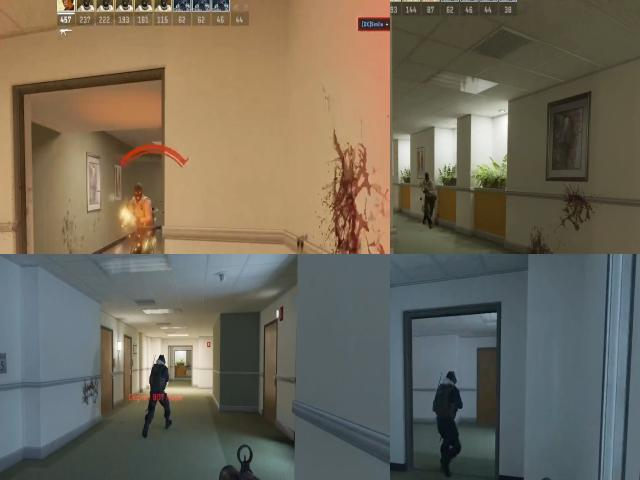CT: (432, 365, 458, 434), (150, 354, 169, 398)
CT-Head: (442, 365, 456, 392), (156, 353, 167, 369)
T: (124, 182, 154, 249), (422, 168, 438, 205)
T-Head: (129, 178, 148, 206), (422, 172, 433, 185)
